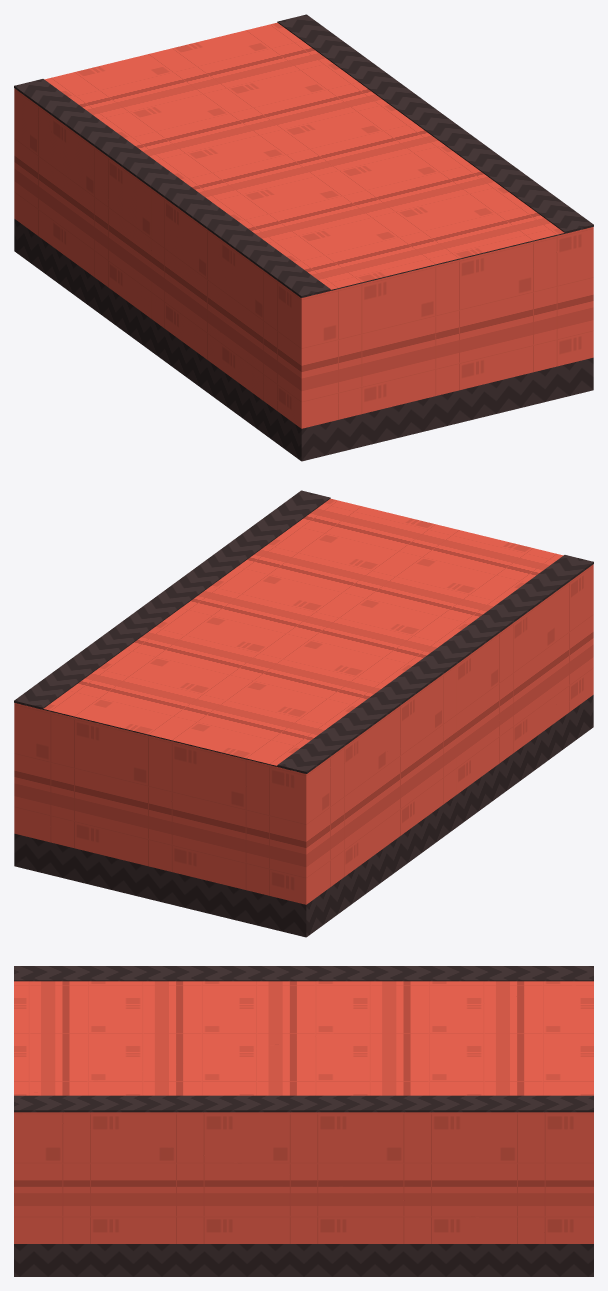
The model's file is floor2.glb.
The picture shows the model from 3 angles, top to bottom: view 1: azimuth 30°, elevation 25°; view 2: azimuth 150°, elevation 25°; view 3: azimuth 270°, elevation 25°; orthographic projection.
Parts seen in each view (by area): view 1: mergedBlocks(Clone); view 2: mergedBlocks(Clone); view 3: mergedBlocks(Clone).
Boxes of the visible parts, x1,y1,x2,y2 form: mergedBlocks(Clone): (14,14,593,461); mergedBlocks(Clone): (14,490,593,937); mergedBlocks(Clone): (14,966,593,1276).
Bounding box in the file's own units: 3 × 1.62 × 5.1.
Materials: 2 (2 with a texture image).
